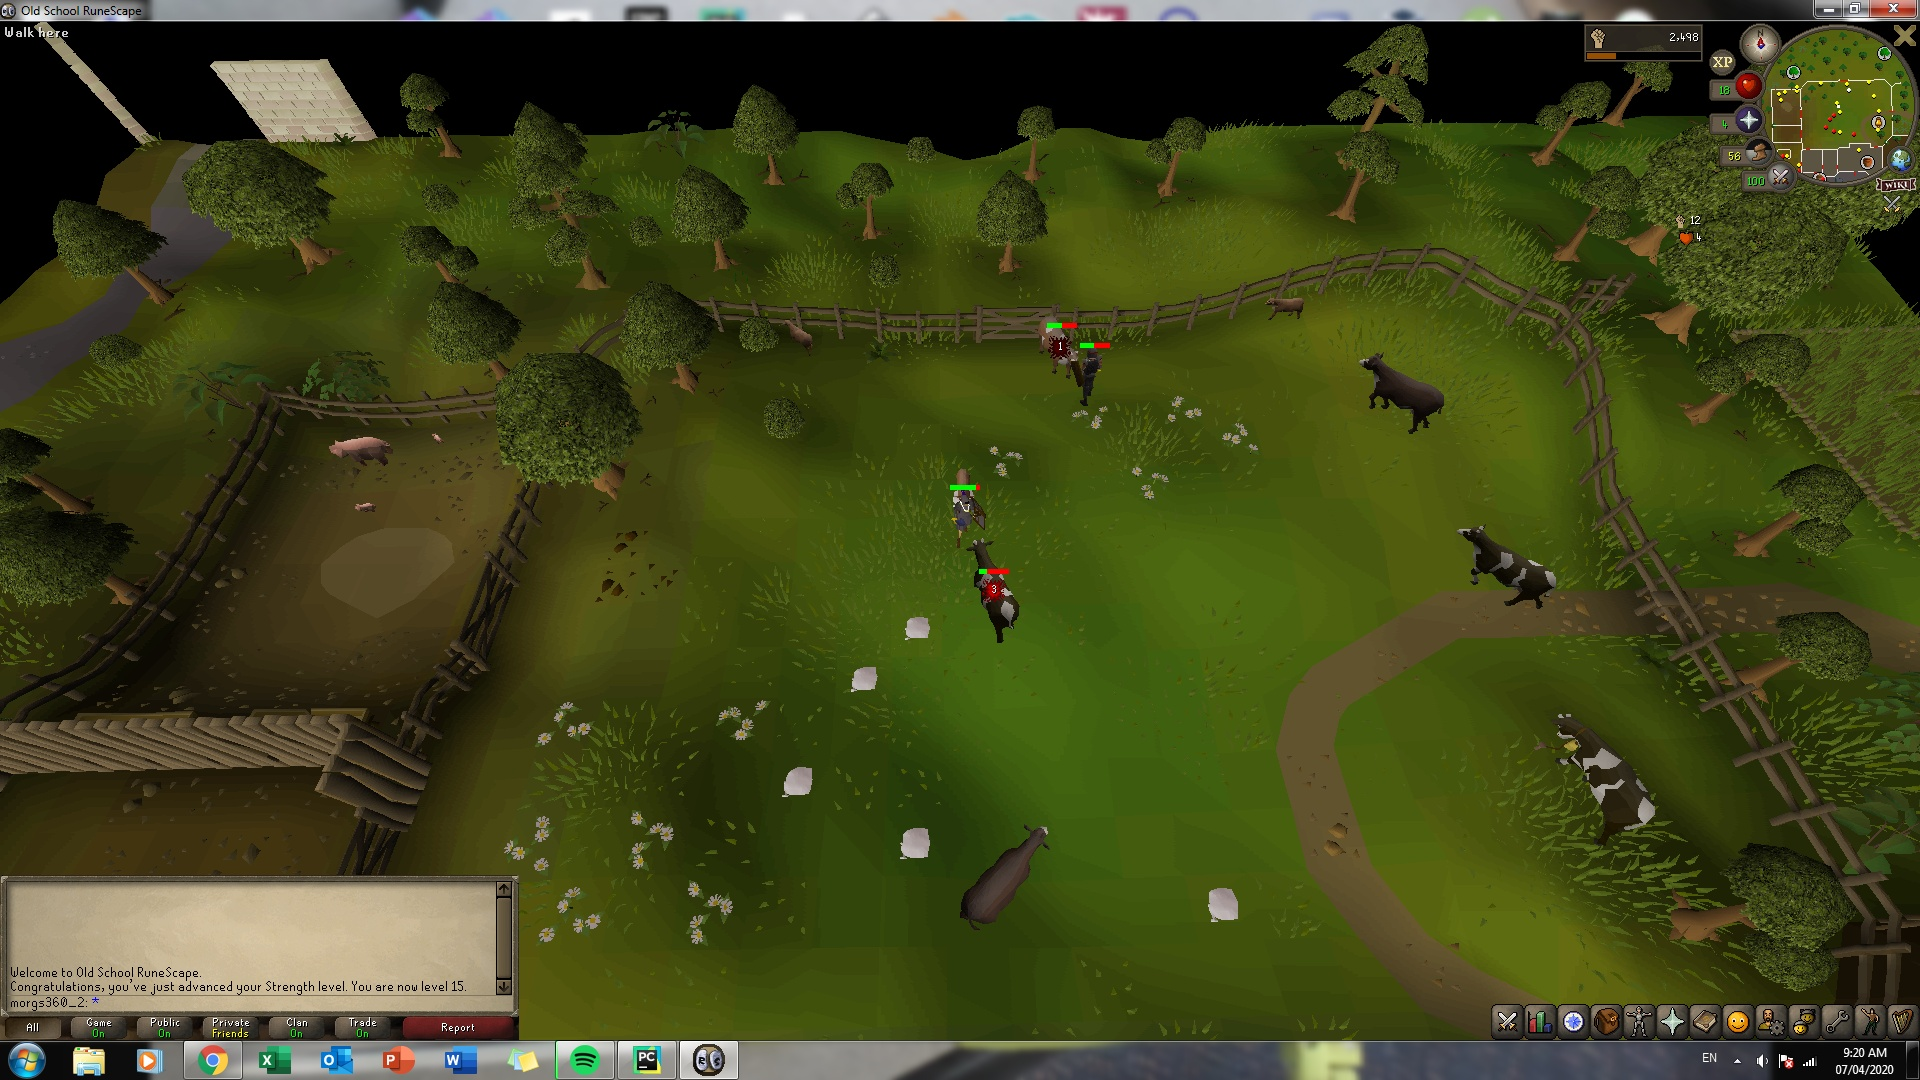cow: (953, 821, 1057, 930), (1448, 525, 1557, 611), (1353, 351, 1446, 439), (963, 532, 1027, 643), (1035, 314, 1082, 386), (1269, 294, 1309, 325)
player: (952, 490, 978, 546)
